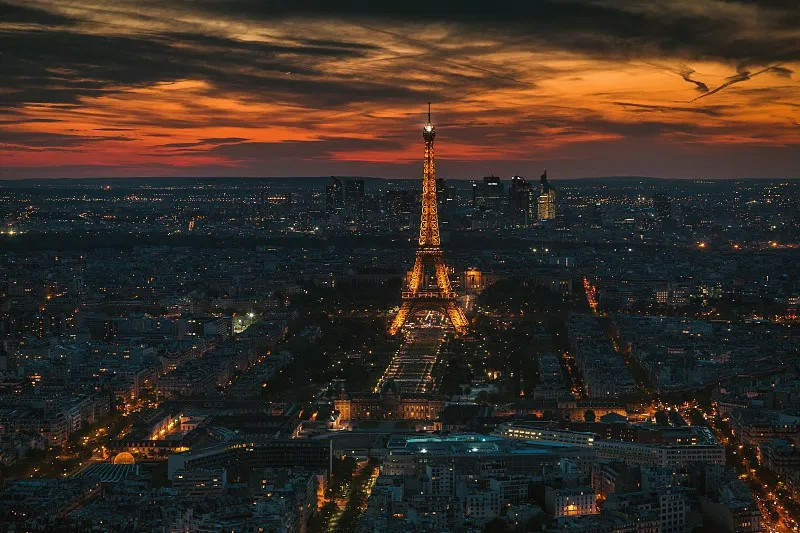Eiffel: (386, 102, 469, 340)
